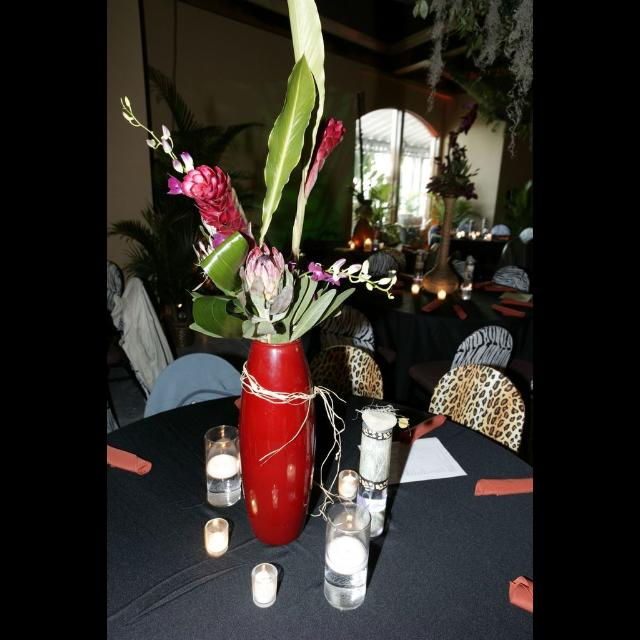Flower: (141, 124, 257, 248), (310, 256, 400, 298), (308, 118, 347, 202), (241, 242, 289, 310)
